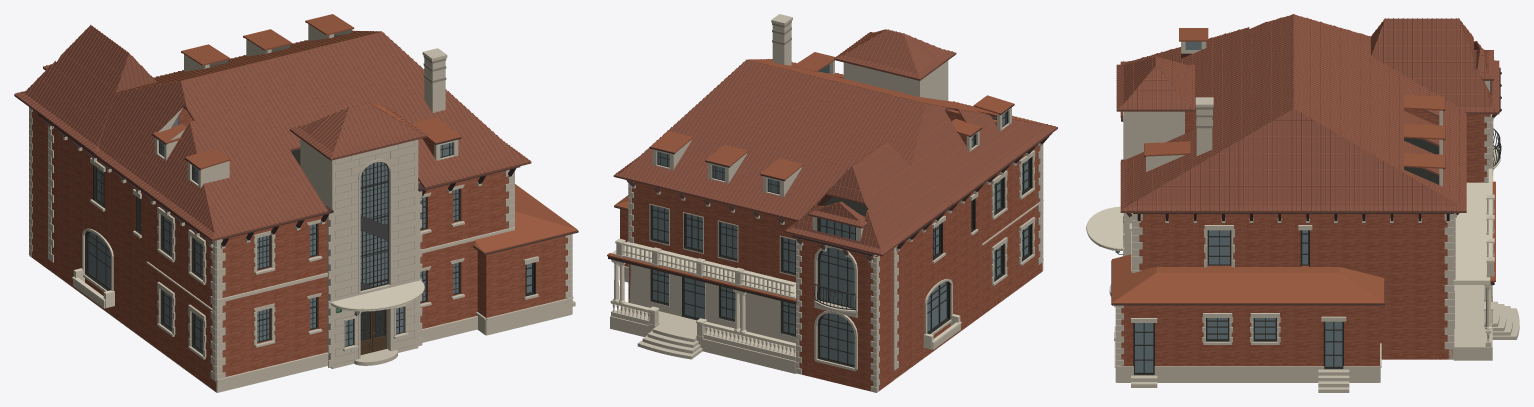
File: xuhui-pathe-records-office-lod.glb
The picture shows the model from 3 angles, left to right: view 1: azimuth 30°, elevation 25°; view 2: azimuth 150°, elevation 25°; view 3: azimuth 270°, elevation 25°; orthographic projection. The views are drawn at different scales.
Visible parts, largest first — view 1: 东方百代唱片公司办公楼（百代小楼）; view 2: 东方百代唱片公司办公楼（百代小楼）; view 3: 东方百代唱片公司办公楼（百代小楼）.
Boxes of the visible parts, left/top/right/bottom form: 东方百代唱片公司办公楼（百代小楼）: left=14, top=14, right=578, bottom=392; 东方百代唱片公司办公楼（百代小楼）: left=607, top=14, right=1057, bottom=392; 东方百代唱片公司办公楼（百代小楼）: left=1086, top=14, right=1519, bottom=392.
Size of the model in its own units: 17.87 by 11.21 by 18.41.
Materials: 17 (1 with a texture image).
